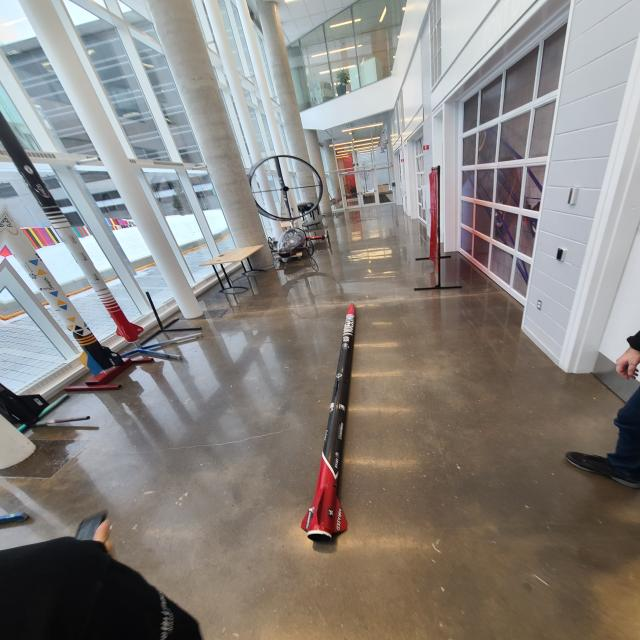Rocket: (301, 300, 356, 542)
